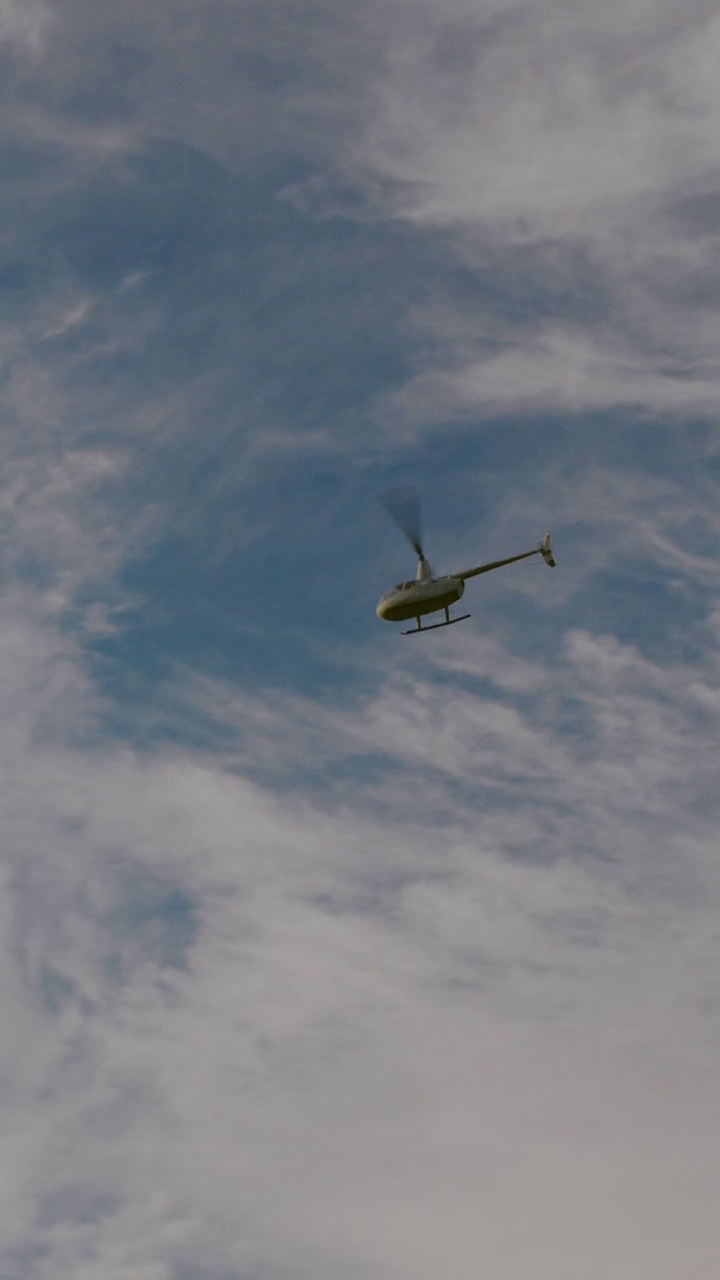heli: (374, 485, 555, 636)
